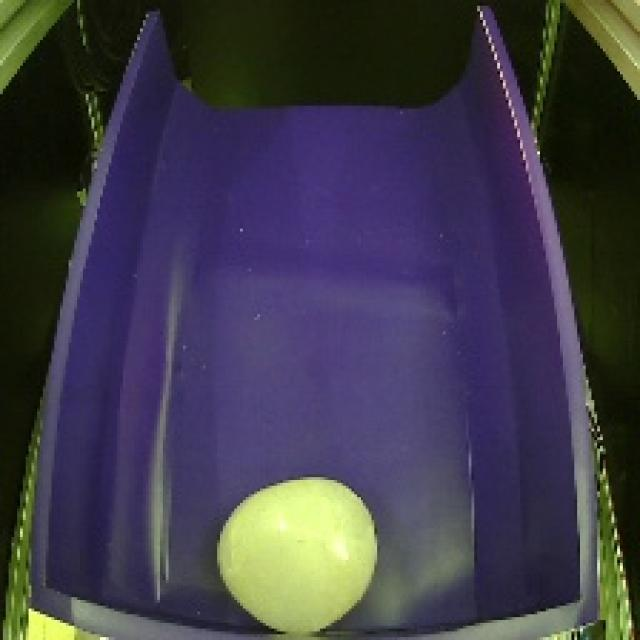cobbles: (200, 463, 389, 640)
